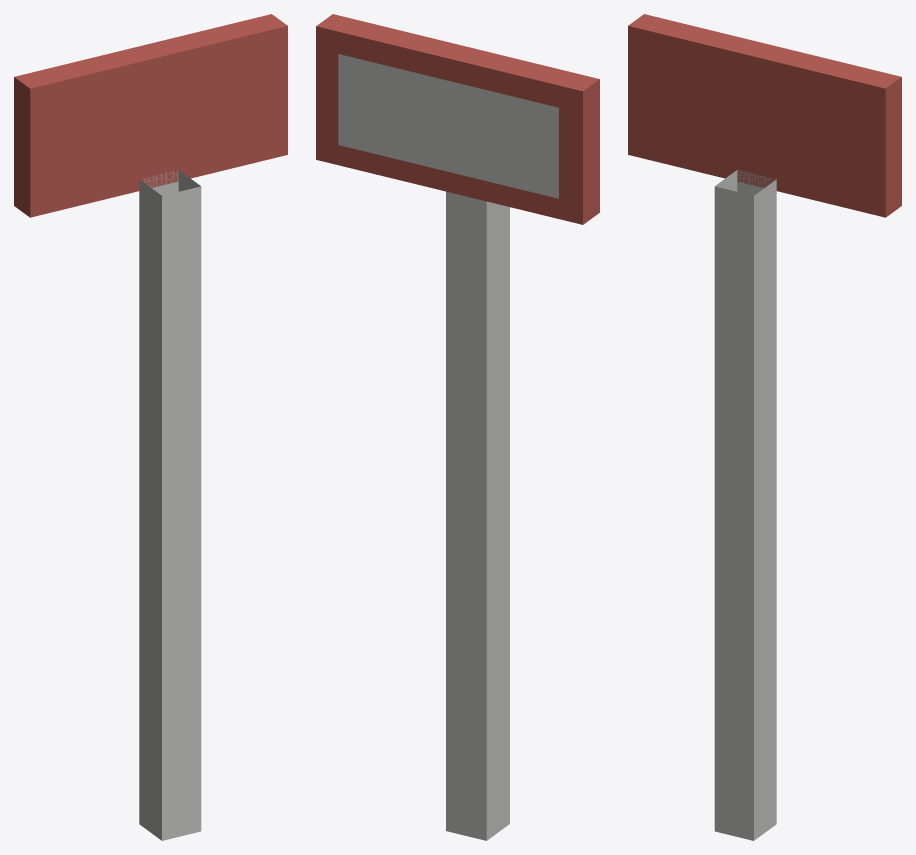
File: SM_BM_BHip_DistMarker.glb
The picture shows the model from 3 angles, left to right: view 1: azimuth 30°, elevation 25°; view 2: azimuth 150°, elevation 25°; view 3: azimuth 330°, elevation 25°; orthographic projection. The views are drawn at different scales.
Parts seen in each view (by area): view 1: SM_BM_BHip_DistMarker; view 2: SM_BM_BHip_DistMarker; view 3: SM_BM_BHip_DistMarker.
Boxes of the visible parts, left/top/right/bottom form: SM_BM_BHip_DistMarker: left=14, top=14, right=287, bottom=840; SM_BM_BHip_DistMarker: left=316, top=14, right=599, bottom=840; SM_BM_BHip_DistMarker: left=628, top=14, right=901, bottom=840.
Bounding box in the file's own units: 0.46 × 1.3 × 0.123.
